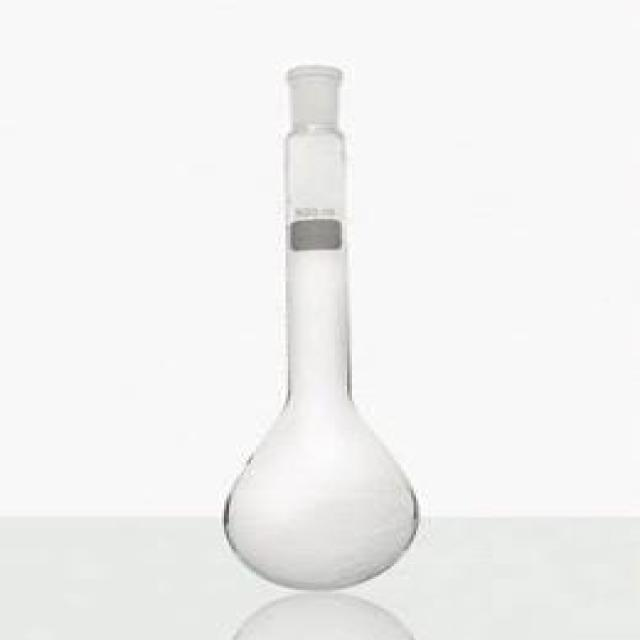Volumetric flask: (211, 50, 427, 592)
